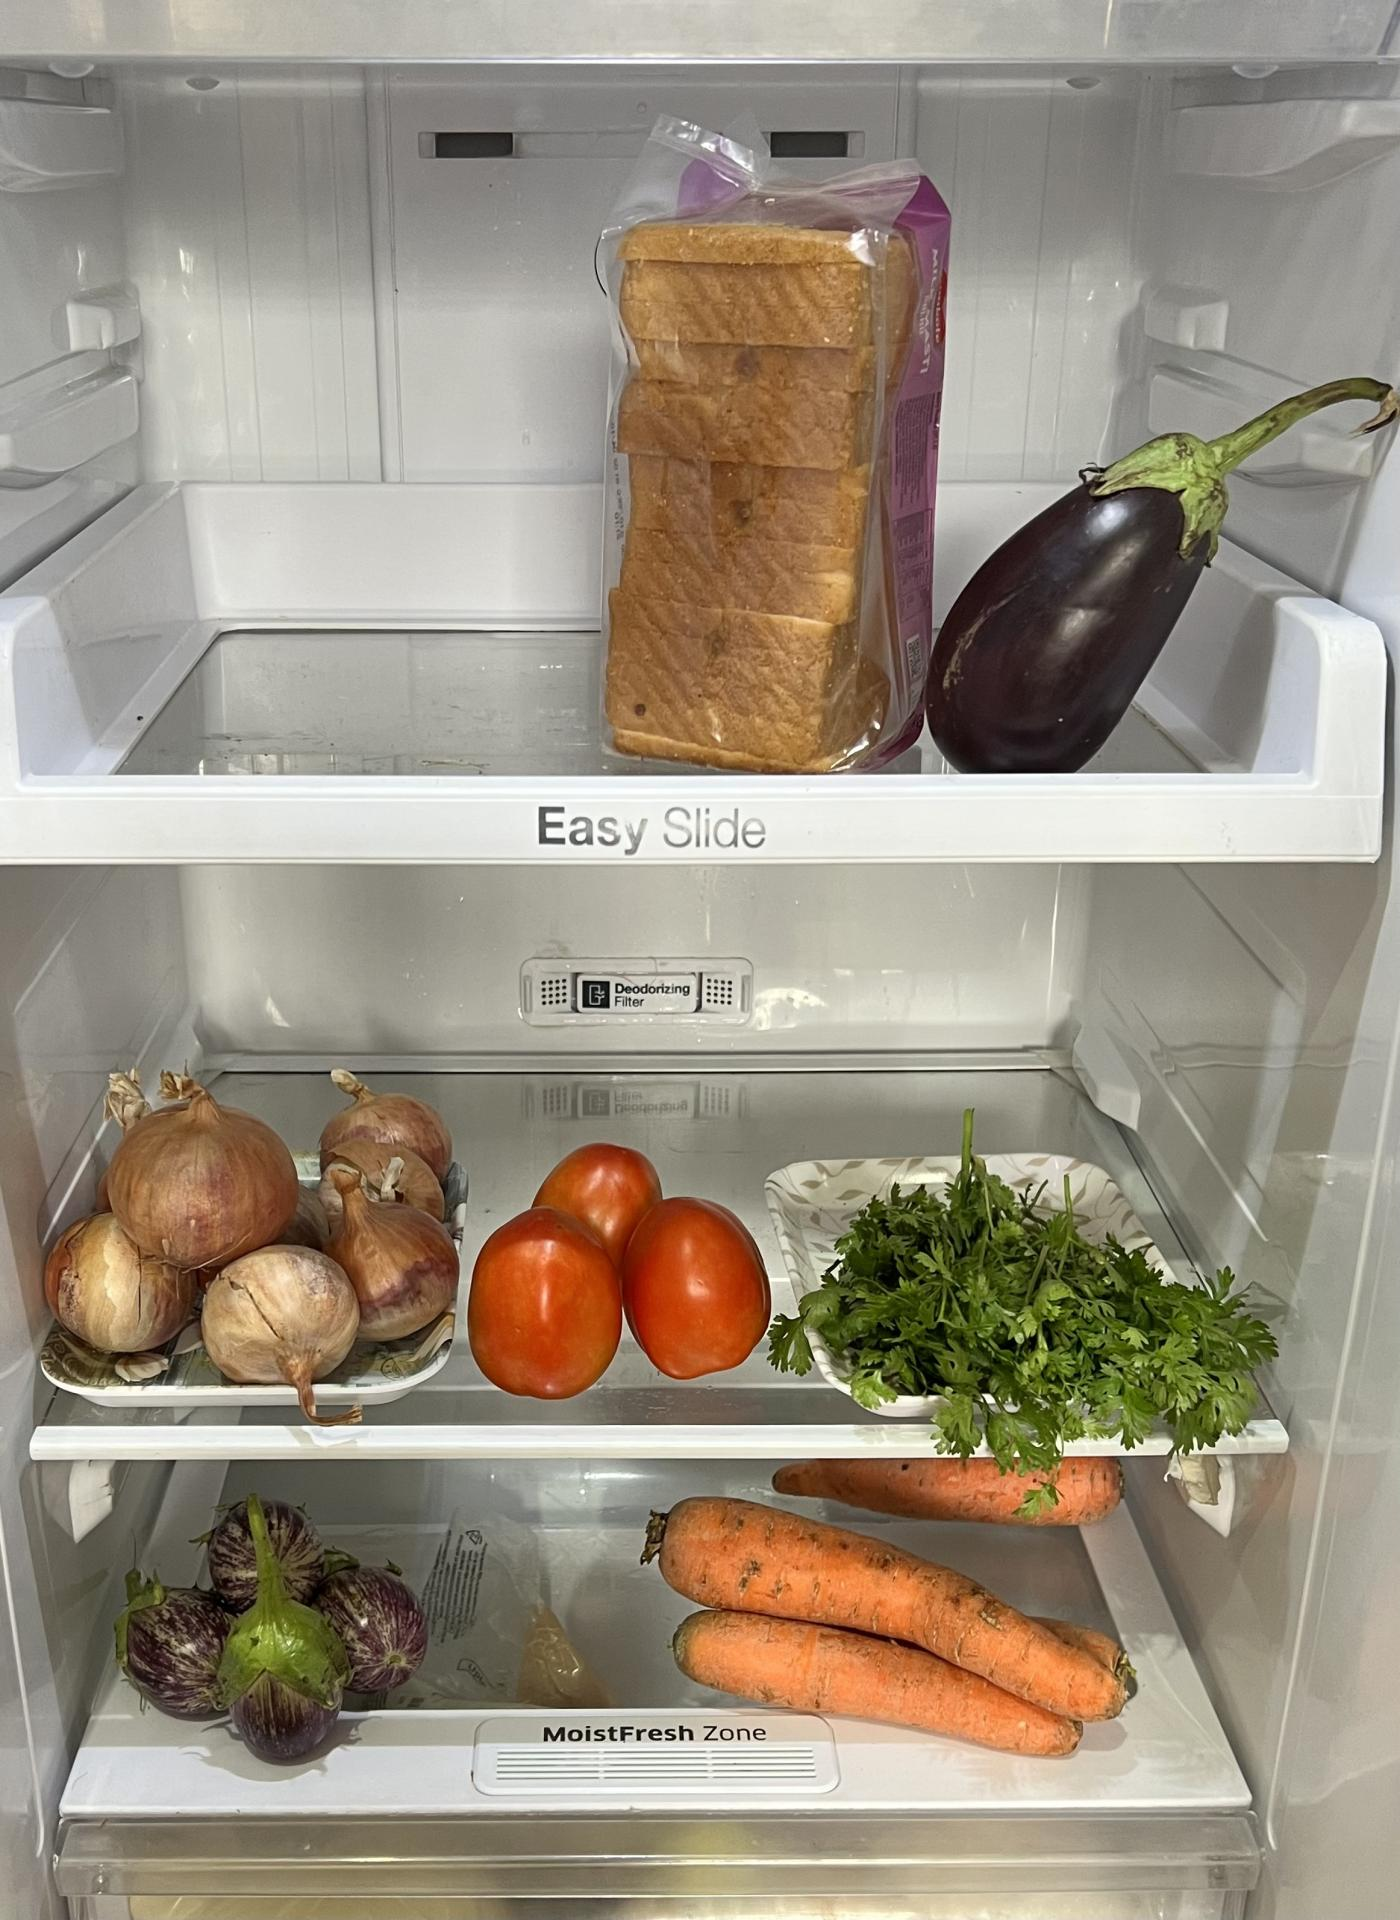bread: (559, 142, 951, 760)
carrots: (635, 1453, 1164, 1750)
coriander: (804, 1160, 1270, 1443)
onion: (37, 1058, 459, 1385)
tomato: (471, 1137, 769, 1398)
